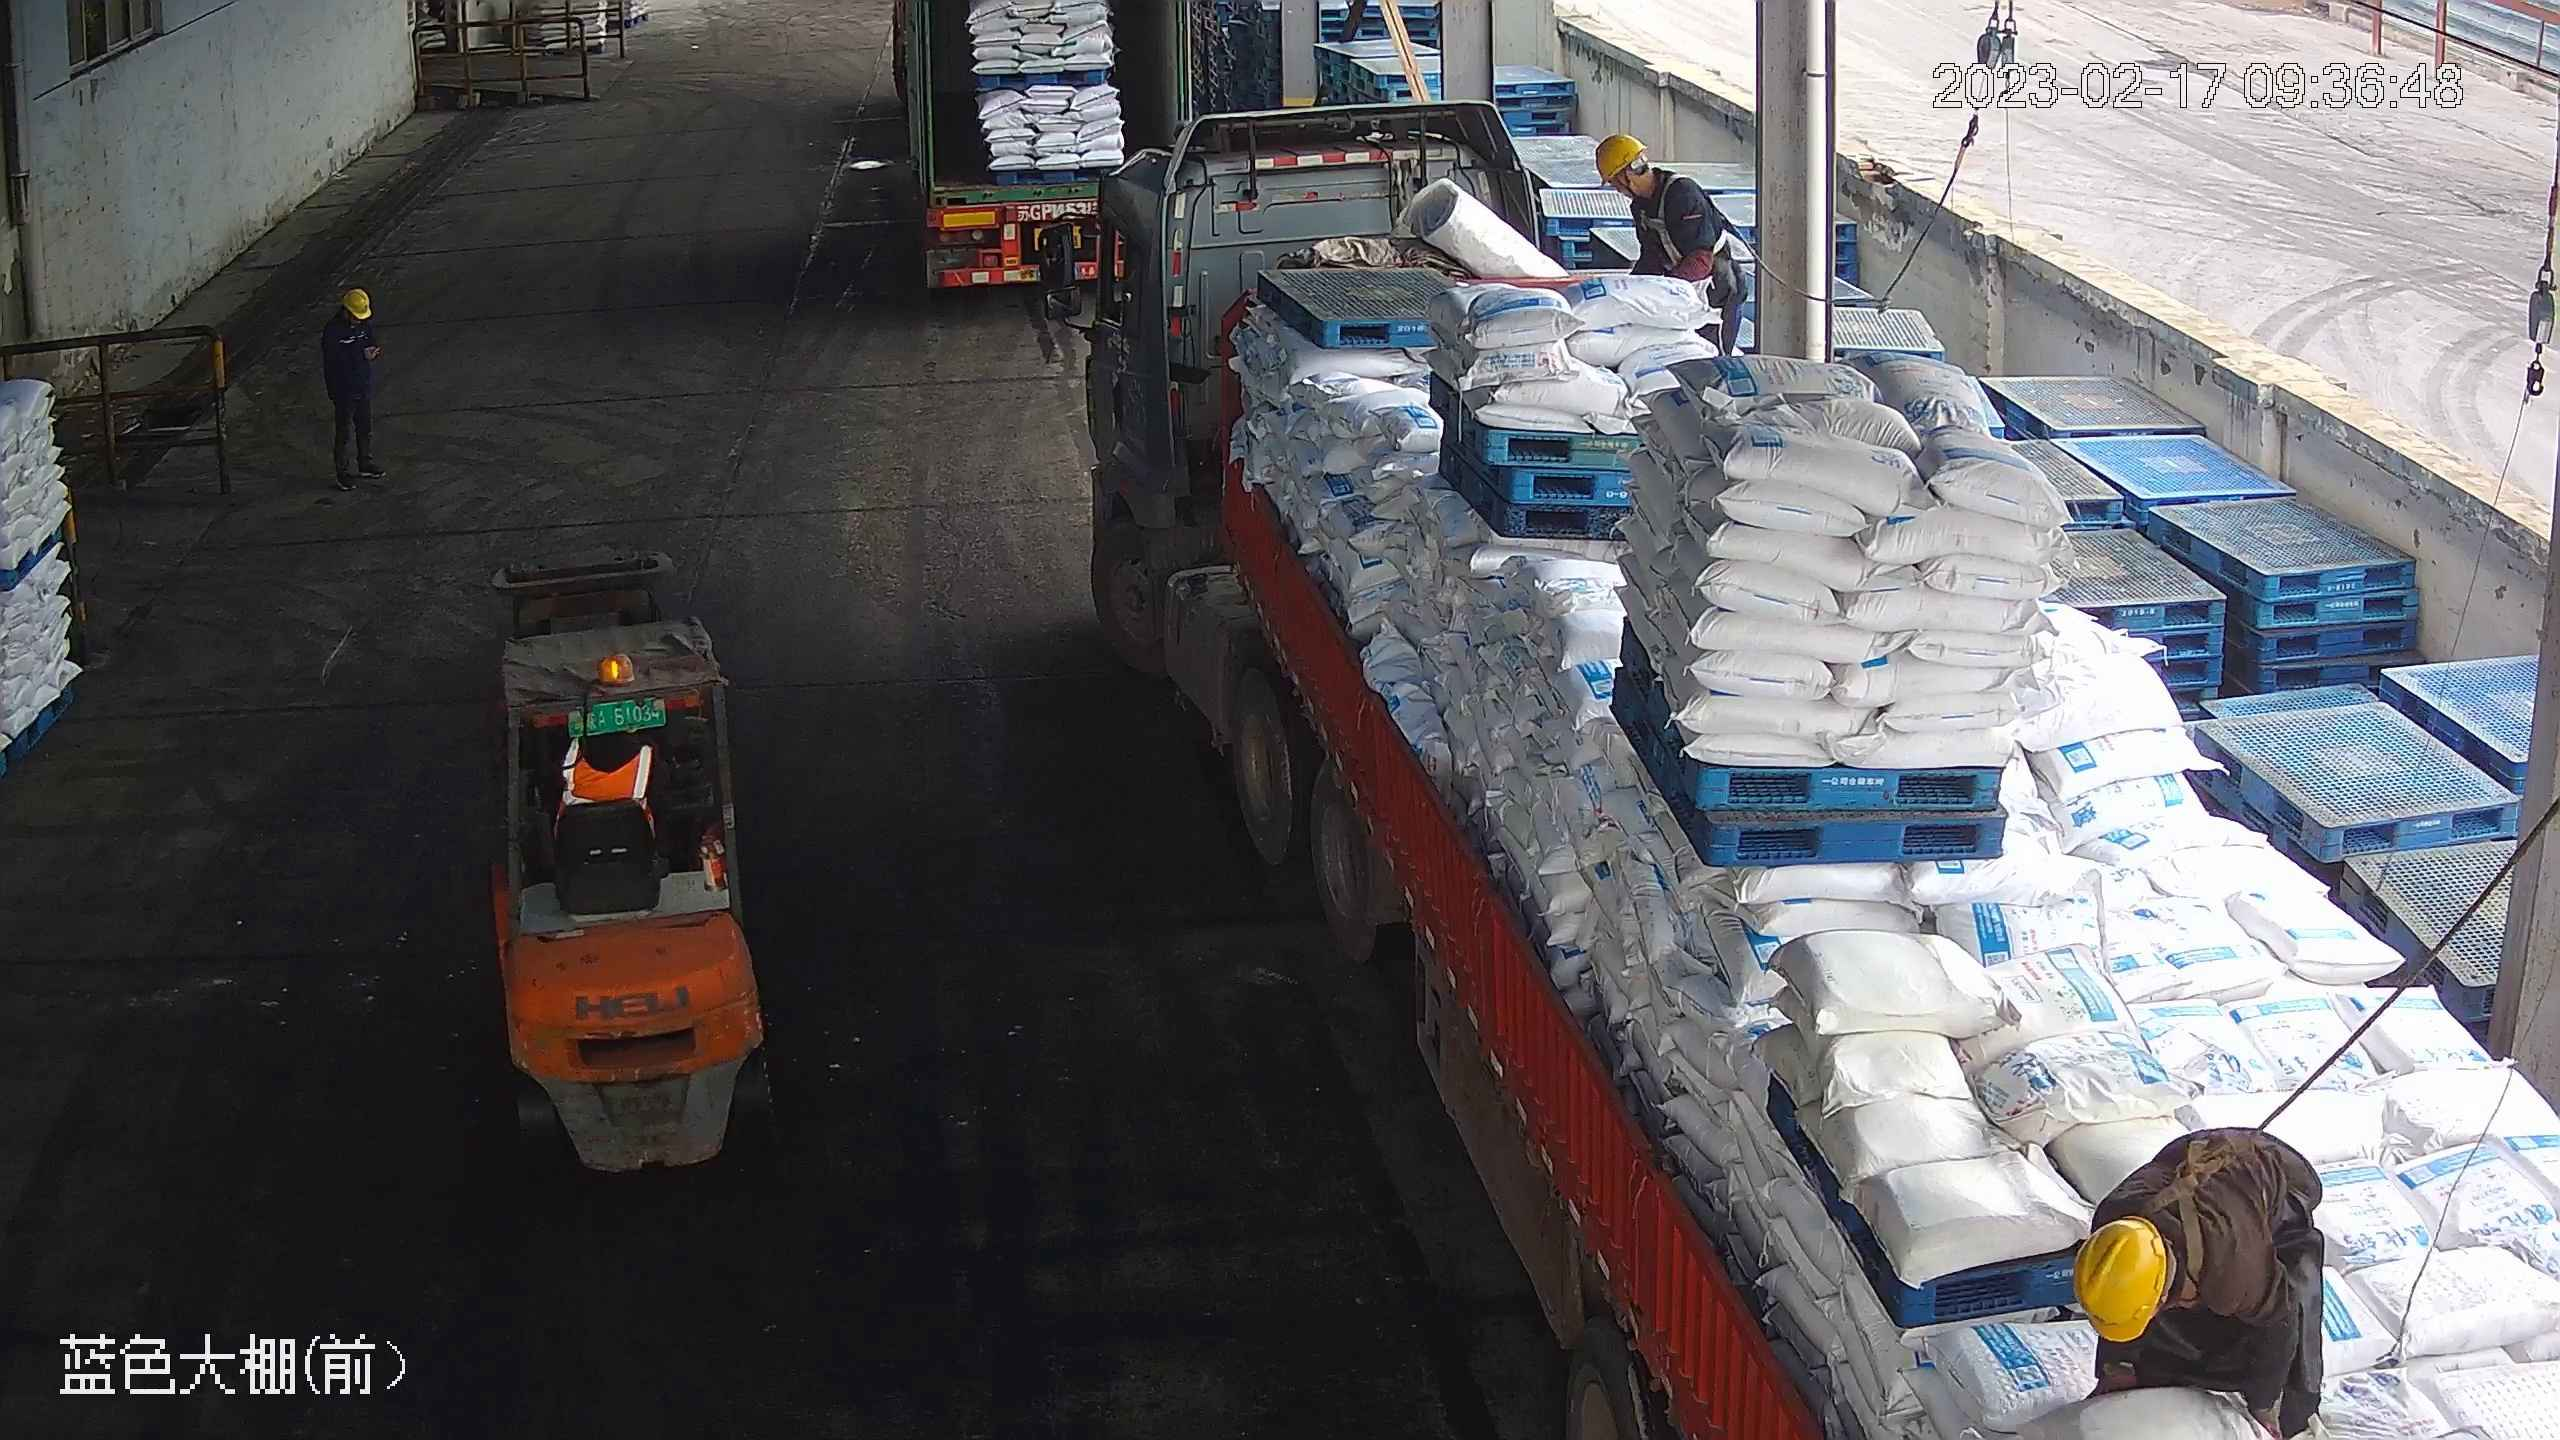belt: (2149, 1123, 2275, 1296), (1637, 173, 1707, 255)
head: (2078, 1177, 2274, 1344), (1593, 131, 1709, 227), (321, 287, 378, 351)
helmet: (2074, 1218, 2169, 1345), (1591, 130, 1643, 183), (341, 286, 371, 313)
people: (2067, 1125, 2335, 1438), (1592, 131, 1749, 361), (319, 286, 389, 491)
truck: (1035, 100, 2555, 1440), (887, 3, 1196, 295)
